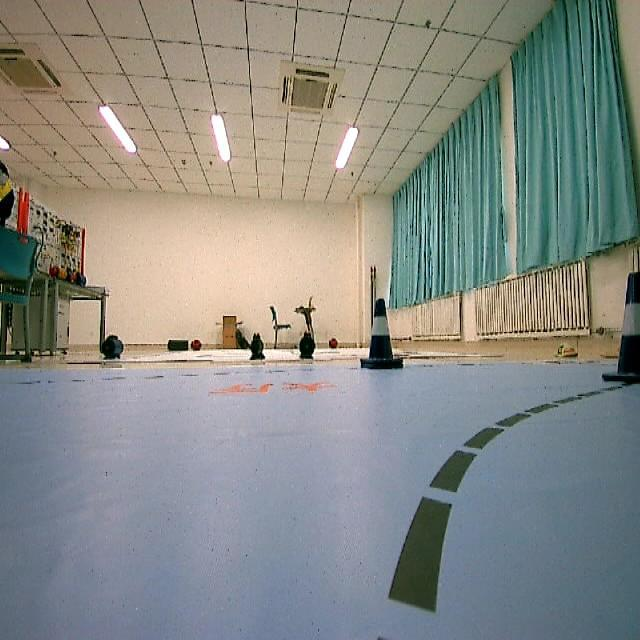obstacle: (357, 296, 410, 376), (608, 280, 640, 394)
